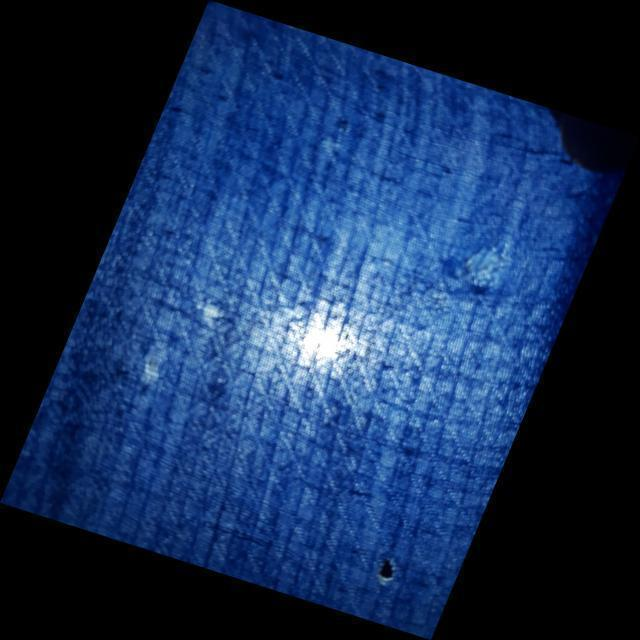other: (350, 548, 430, 604)
